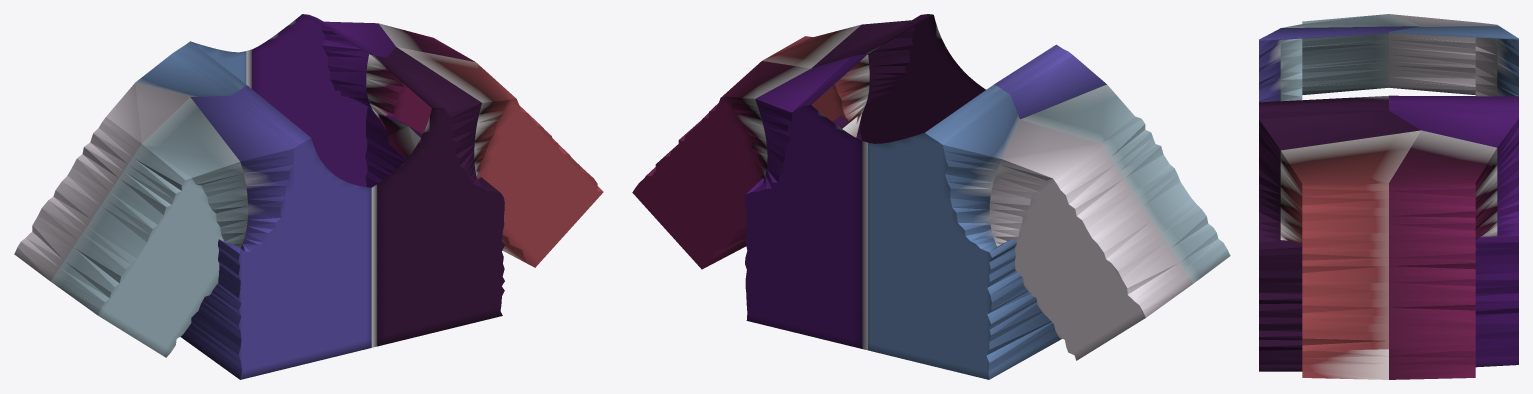
File: mesh_boxmesh.obj
3 renders of one model, left to right at view 1: azimuth 30°, elevation 25°; view 2: azimuth 150°, elevation 25°; view 3: azimuth 270°, elevation 25°, orthographic. The views are drawn at different scales.
Size of the model in its own units: 107 by 45.99 by 45.
1 material, 1 textured.
